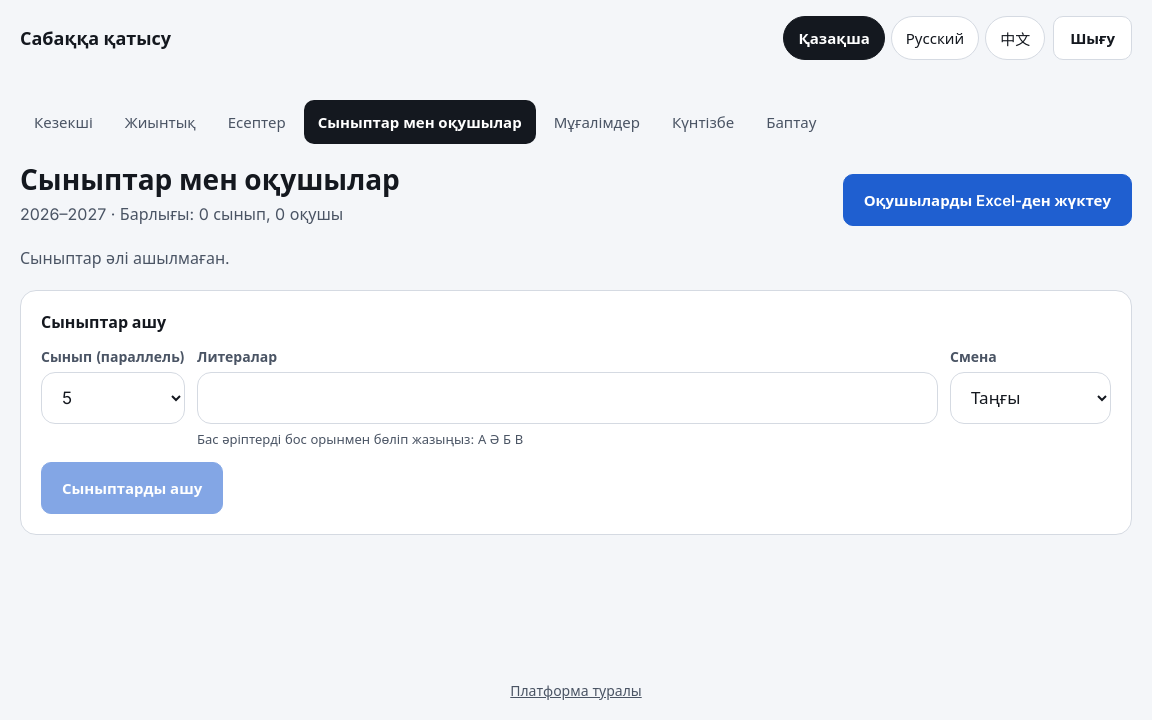
Test: сыныптар › бірнеше сынып бірден ашылады: әріптер бас әріпке айналып жіберіледі
Step 1. Select "7" in the dropdown labelled "Сынып (параллель)" → (113, 398), box x1=41 y1=372 x2=185 y2=424
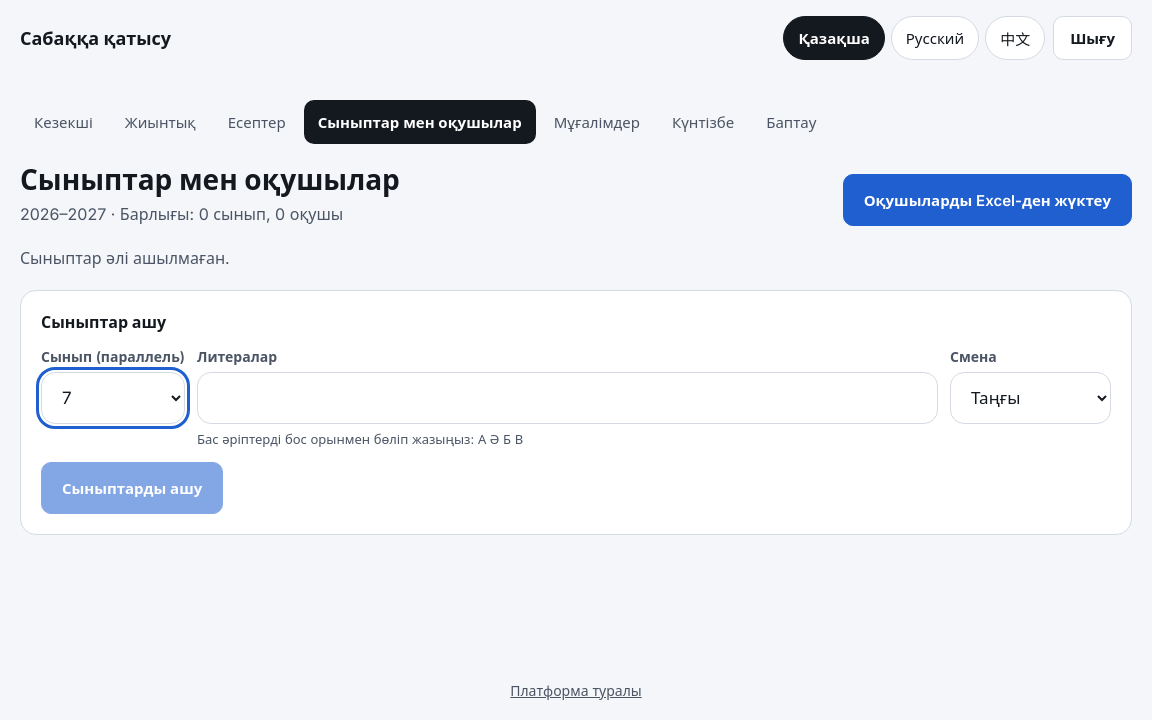
Step 2. Type "а ә" into the field labelled "Литералар" → (568, 398), box x1=197 y1=372 x2=938 y2=424
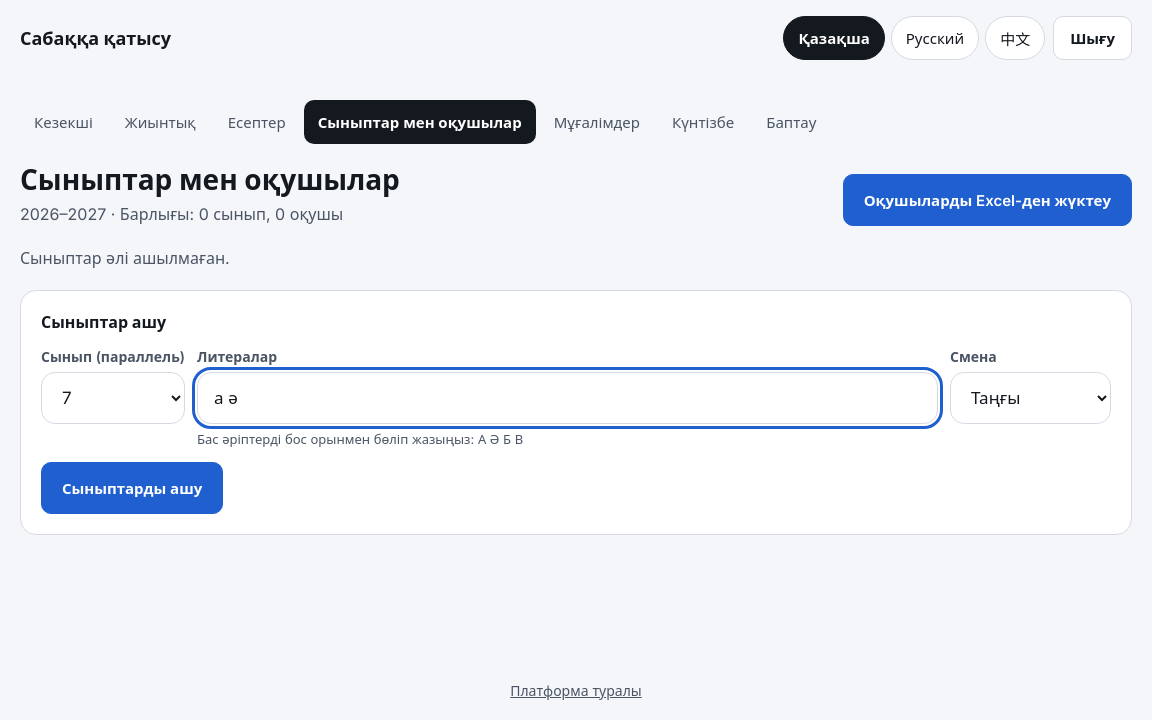
Step 3. Click the button "Сыныптарды ашу" → (132, 488), box x1=41 y1=462 x2=223 y2=514
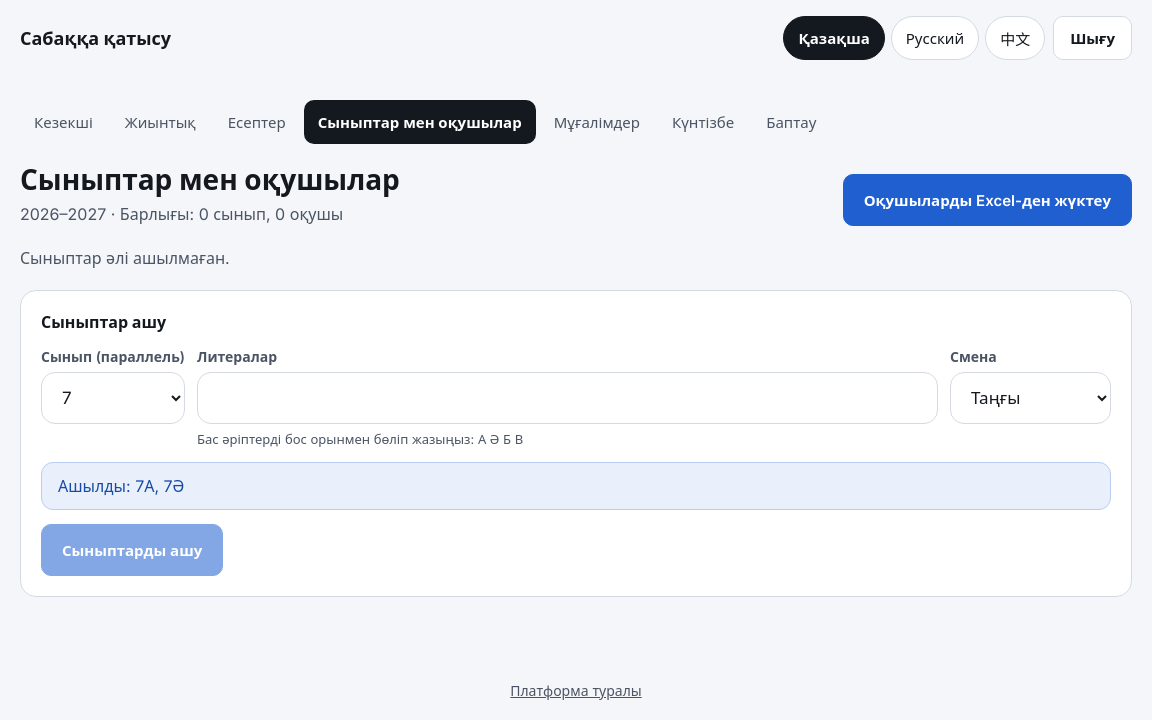
Check: the message shows "7А, 7Ә", box x1=58 y1=476 x2=184 y2=496
